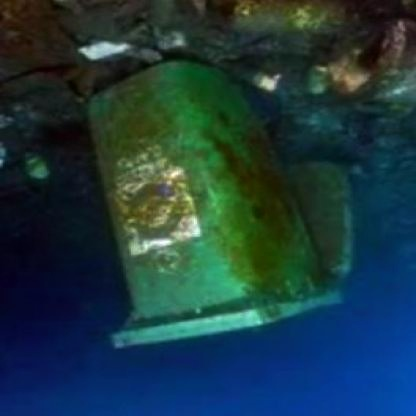misc: (88, 63, 309, 367)
